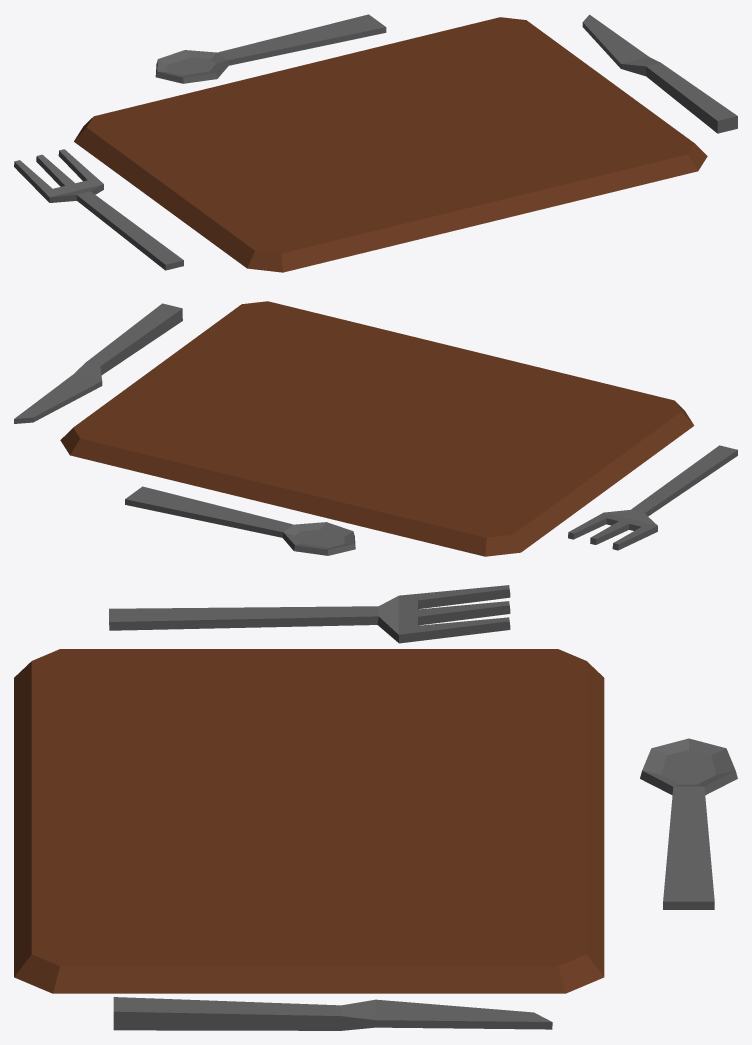
Rendered from TableMat.glb.
3 views of the same model, one above another, from view 1: azimuth 30°, elevation 25°; view 2: azimuth 150°, elevation 25°; view 3: azimuth 270°, elevation 25° (orthographic). The views are drawn at different scales.
Parts seen in each view (by area): view 1: TableMat; view 2: TableMat; view 3: TableMat.
Part boxes in pixels (box(x1,y1,x2,y2)): TableMat: box(14, 14, 737, 272); TableMat: box(14, 301, 737, 556); TableMat: box(14, 585, 737, 1030).
Bounding box in the file's own units: 0.5084 × 0.0117 × 0.3643.
